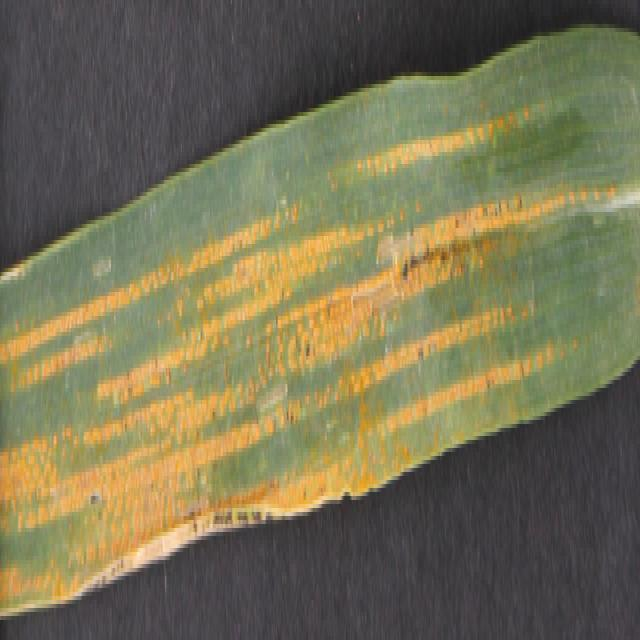leaf rust: (1, 80, 585, 640)
